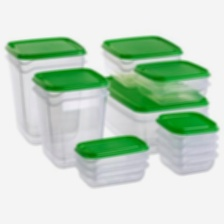plastic_box: (0, 28, 92, 150), (95, 69, 215, 158), (27, 62, 115, 172), (97, 29, 189, 93), (151, 107, 223, 180), (70, 131, 154, 193), (130, 55, 216, 109)
